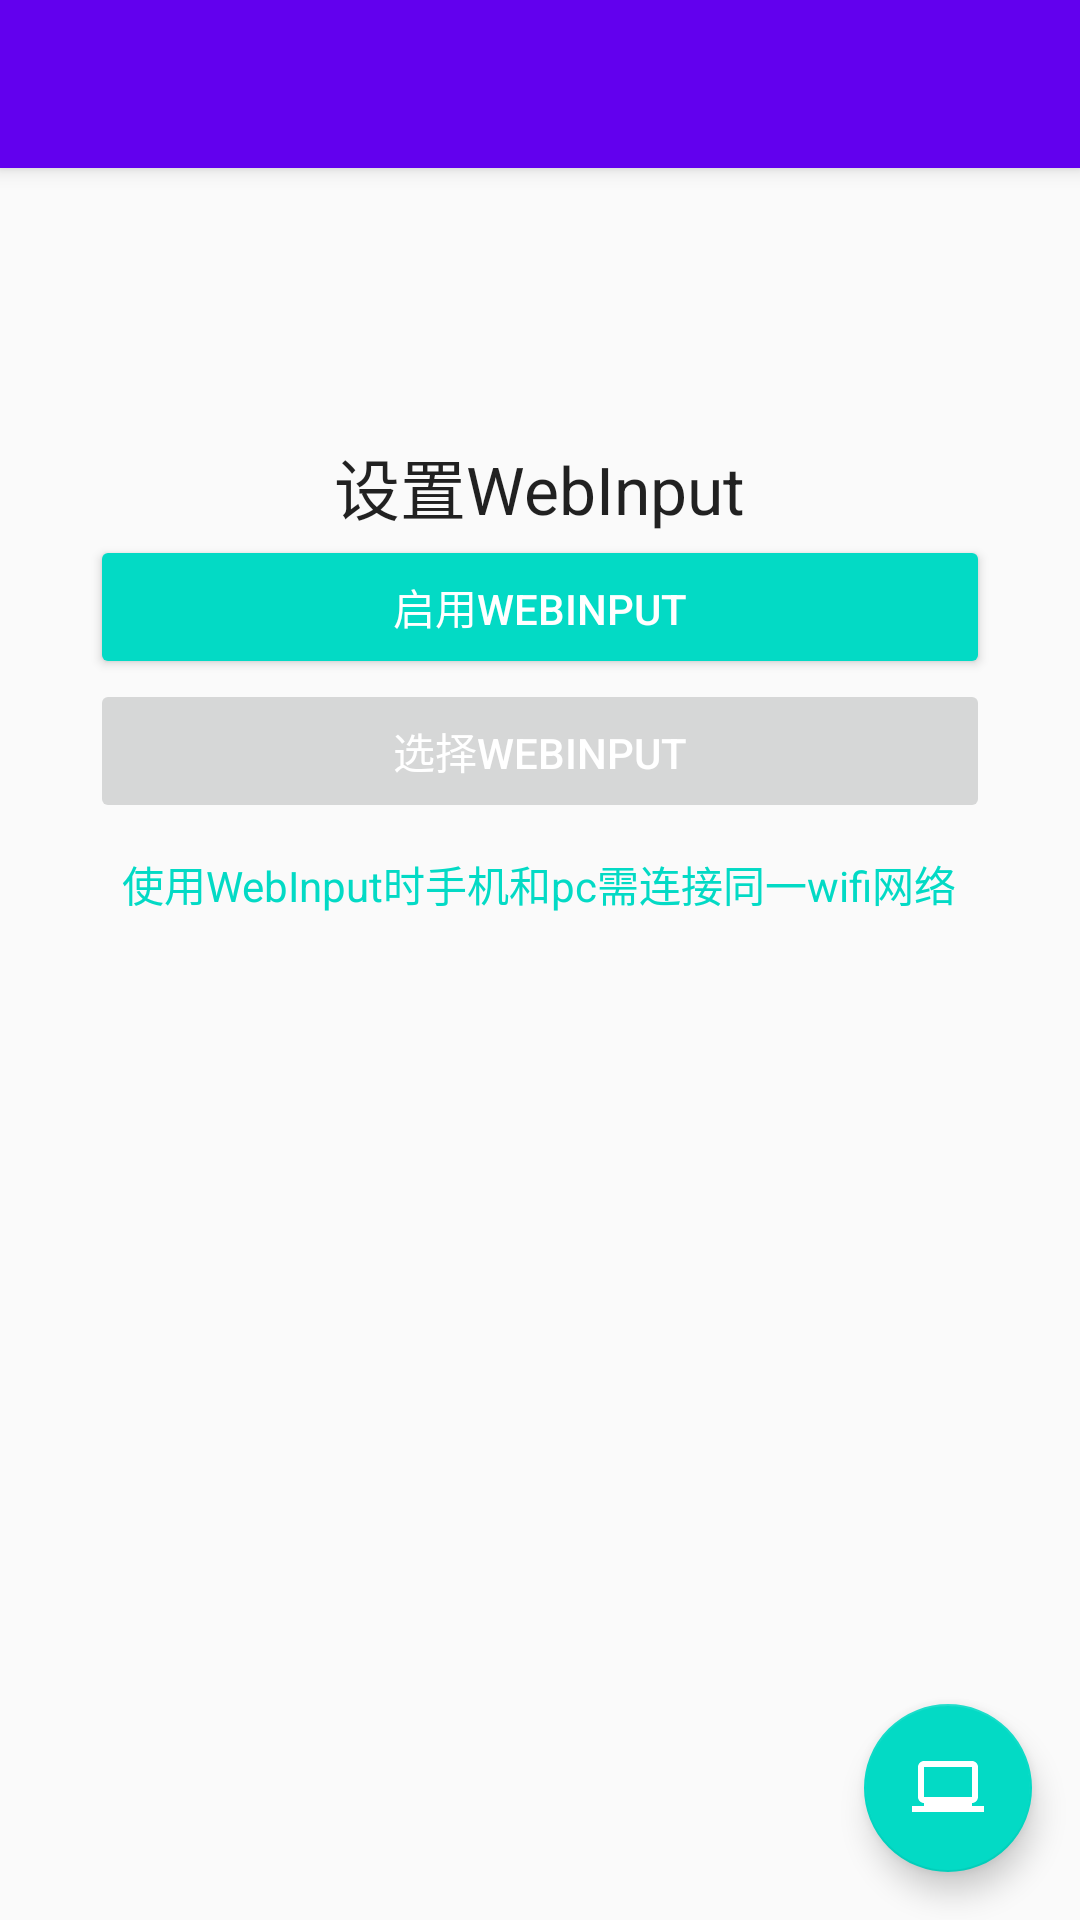

Icons on this 1080px×1920px Android screen, each with its box as [x1=x1, y1=y1, x2=x2, y2=y2]:
laptop: [x1=864, y1=1704, x2=1032, y2=1872]
